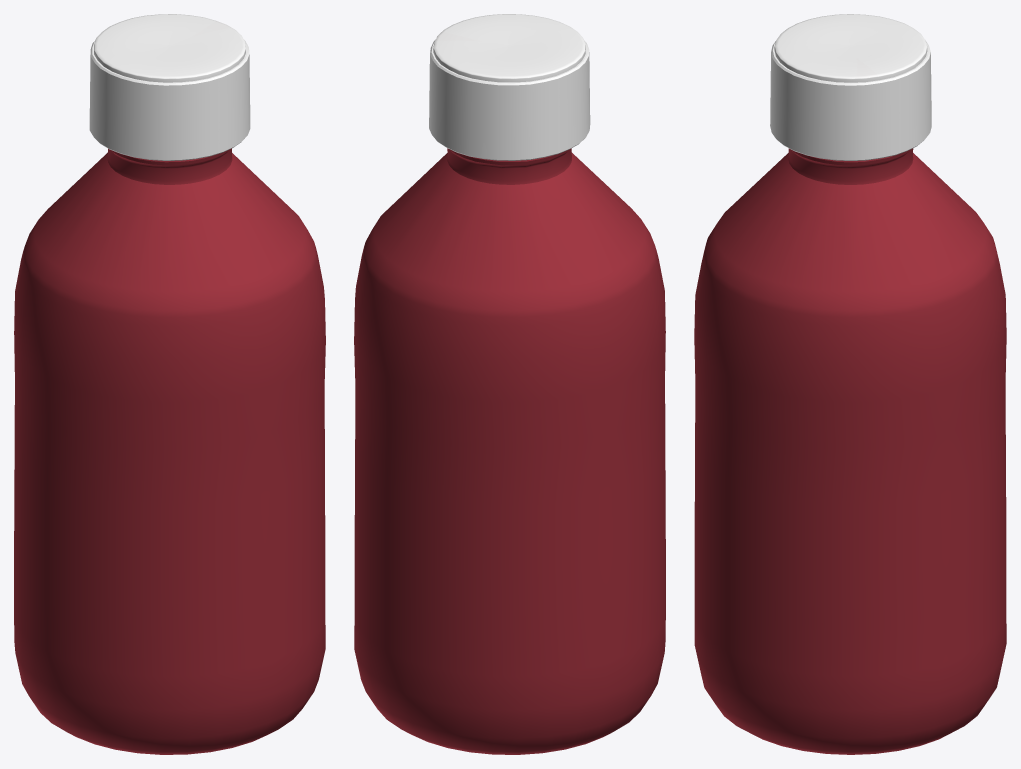
File: jarabe.glb
3 renders of one model, left to right at view 1: azimuth 30°, elevation 25°; view 2: azimuth 150°, elevation 25°; view 3: azimuth 270°, elevation 25°, orthographic.
Parts seen in each view (by area): view 1: medicine_bottle_v3; view 2: medicine_bottle_v3; view 3: medicine_bottle_v3.
Part boxes in pixels (x1=…): medicine_bottle_v3: x1=14, y1=14, x2=325, y2=754; medicine_bottle_v3: x1=354, y1=14, x2=665, y2=754; medicine_bottle_v3: x1=694, y1=14, x2=1006, y2=754.
Bounding box in the file's own units: 25.72 × 59.89 × 25.71.
Materials: 1 (1 with a texture image).
